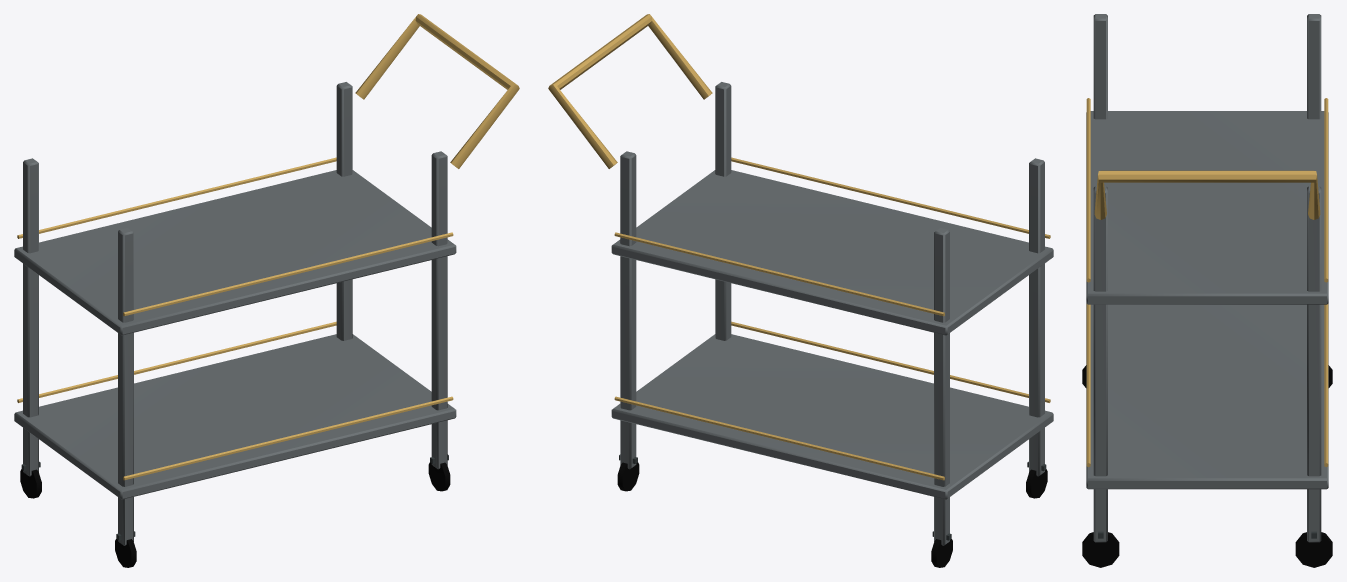
Rendered from rest-trolley.glb.
The picture shows the model from 3 angles, left to right: view 1: azimuth 30°, elevation 25°; view 2: azimuth 150°, elevation 25°; view 3: azimuth 270°, elevation 25°; orthographic projection. The views are drawn at different scales.
Parts seen in each view (by area): view 1: body__steel, rails__brass; view 2: body__steel, rails__brass; view 3: body__steel, rails__brass.
Boxes of the visible parts, box(x1,y1,x2,y2) form: body__steel: box(14, 82, 456, 567); rails__brass: box(17, 14, 519, 480); body__steel: box(611, 82, 1053, 567); rails__brass: box(548, 14, 1050, 480); body__steel: box(1082, 14, 1332, 567); rails__brass: box(1086, 98, 1328, 467).
Bounding box in the file's own units: 1.08 × 0.9923 × 0.5161.
